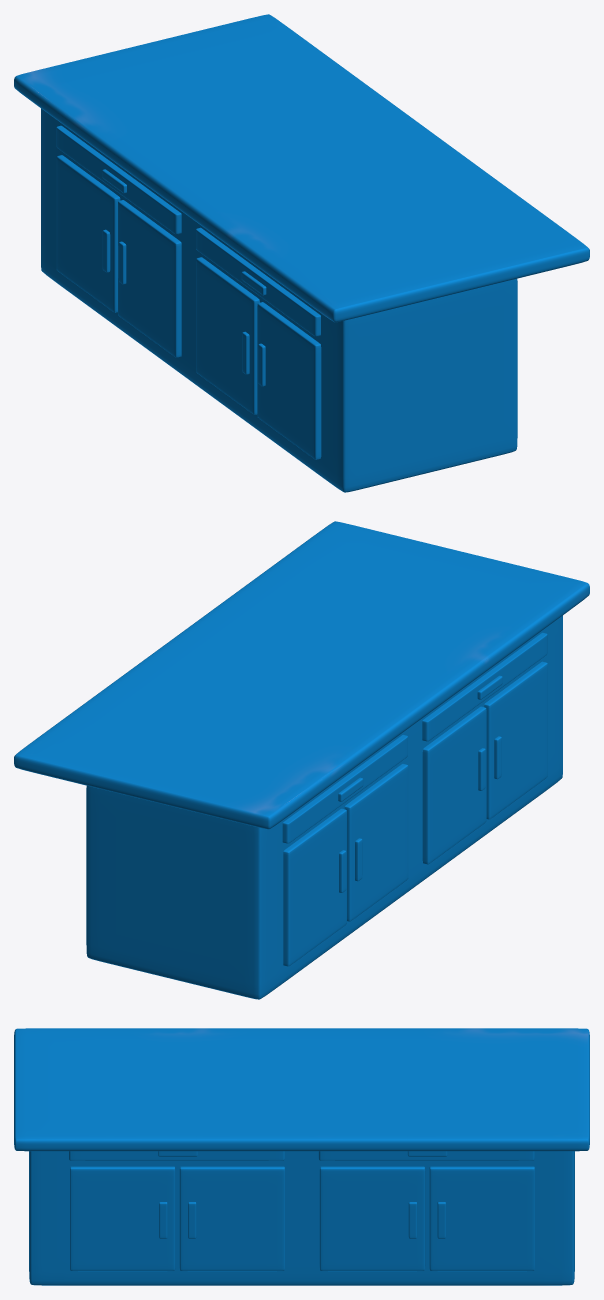
The picture shows the model from 3 angles, top to bottom: view 1: azimuth 30°, elevation 25°; view 2: azimuth 150°, elevation 25°; view 3: azimuth 270°, elevation 25°; orthographic projection. The views are drawn at different scales.
Visible parts, largest first — view 1: pCube2, pCube1, pCube6, pCube4, pCube8, pCube3, pCube5, pCube7; view 2: pCube2, pCube1, pCube8, pCube3, pCube4, pCube6, pCube7, pCube5; view 3: pCube2, pCube1, pCube25, pCube17, pCube19, pCube18, pCube21, pCube20.
Part boxes in pixels (x1,y1,x2,y2): pCube2: (14, 14, 589, 322); pCube1: (41, 108, 517, 492); pCube6: (257, 302, 321, 459); pCube4: (118, 200, 181, 357); pCube8: (196, 257, 259, 414); pCube3: (56, 155, 120, 312); pCube5: (56, 125, 181, 234); pCube7: (196, 227, 320, 336); pCube2: (14, 521, 589, 829); pCube1: (86, 615, 562, 999); pCube8: (422, 706, 486, 864); pCube3: (283, 808, 346, 966); pCube4: (344, 764, 408, 921); pCube6: (484, 661, 547, 819); pCube7: (422, 632, 547, 741); pCube5: (282, 734, 407, 843); pCube2: (14, 1028, 589, 1151); pCube1: (29, 1151, 574, 1285); pCube25: (319, 1166, 425, 1271); pCube17: (429, 1166, 534, 1271); pCube19: (70, 1166, 175, 1271); pCube18: (179, 1166, 284, 1271); pCube21: (318, 1151, 534, 1160); pCube20: (69, 1151, 284, 1160).
Size of the model in its own units: 3.77 by 2.74 by 8.14.
2 materials, 2 textured.
